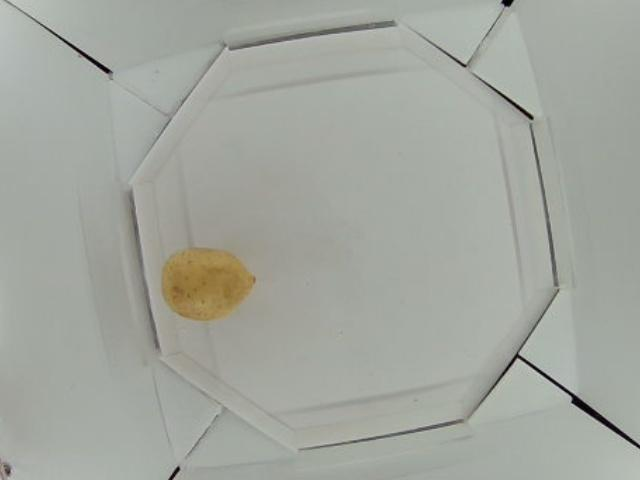Potato: (163, 241, 256, 321)
